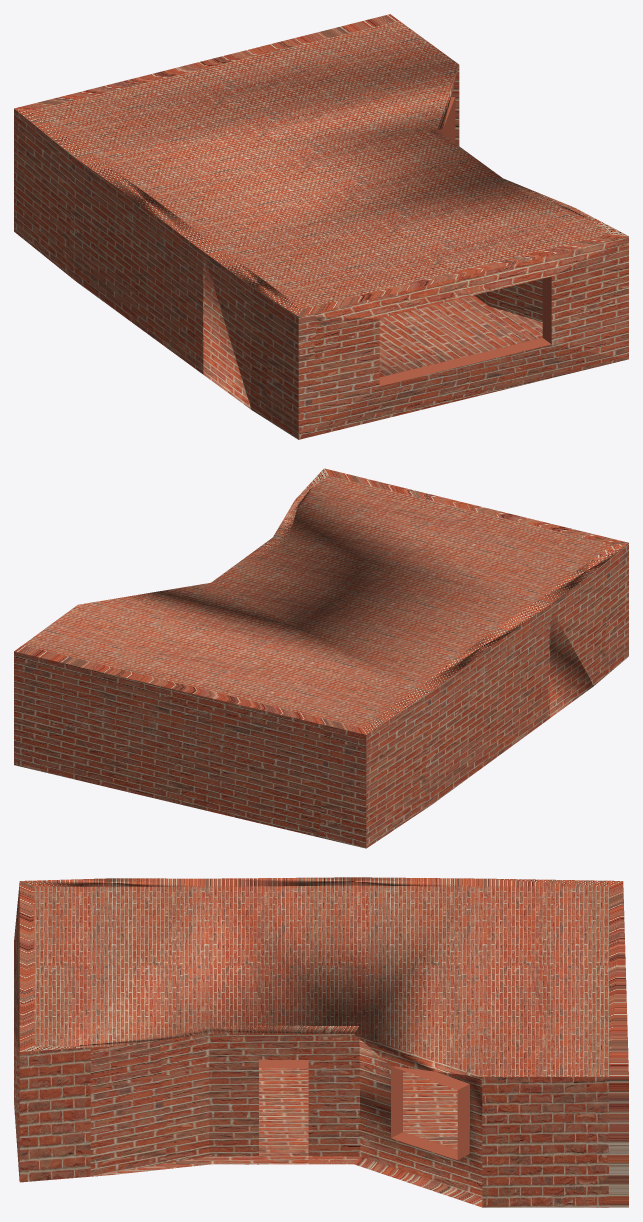
Rendered from office_abdullahi.glb.
3 views of the same model, one above another, from view 1: azimuth 30°, elevation 25°; view 2: azimuth 150°, elevation 25°; view 3: azimuth 270°, elevation 25° (orthographic). The views are drawn at different scales.
Visible parts, largest first — view 1: Cube.005; view 2: Cube.005; view 3: Cube.005.
Boxes of the visible parts, <box> form: Cube.005: <box>14,14,628,439</box>; Cube.005: <box>14,468,628,848</box>; Cube.005: <box>14,877,628,1207</box>.
Size of the model in its own units: 13.54 by 4.19 by 17.73.
Materials: 1 (1 with a texture image).
